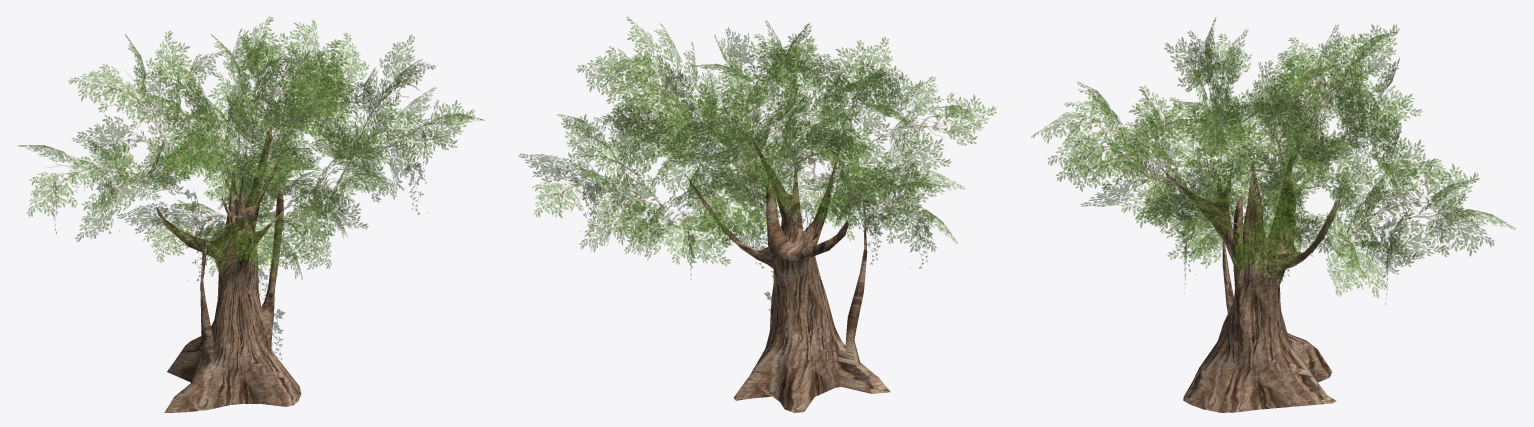
Rendered from BanyanOld.FBX.
3 views of the same model, side by side, from view 1: azimuth 30°, elevation 25°; view 2: azimuth 150°, elevation 25°; view 3: azimuth 270°, elevation 25° (orthographic). The views are drawn at different scales.
Parts seen in each view (by area): view 1: banyanB; view 2: banyanB; view 3: banyanB.
Part boxes in pixels (x1,y1,x2,y2): banyanB: [18, 16, 484, 412]; banyanB: [518, 17, 996, 412]; banyanB: [1031, 17, 1515, 412].
Bounding box in the file's own units: 12.33 × 9.37 × 11.92.
